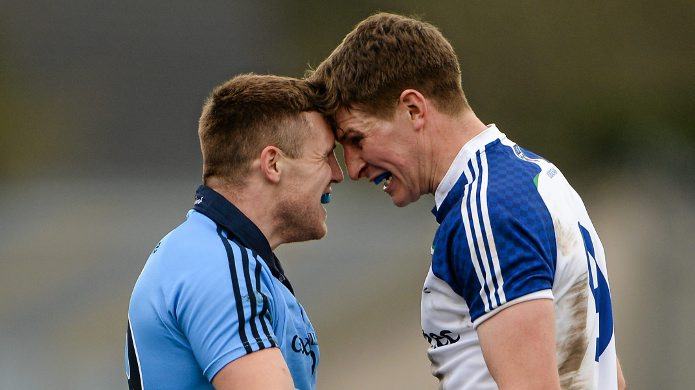player: (331, 26, 621, 386), (131, 72, 323, 387)
